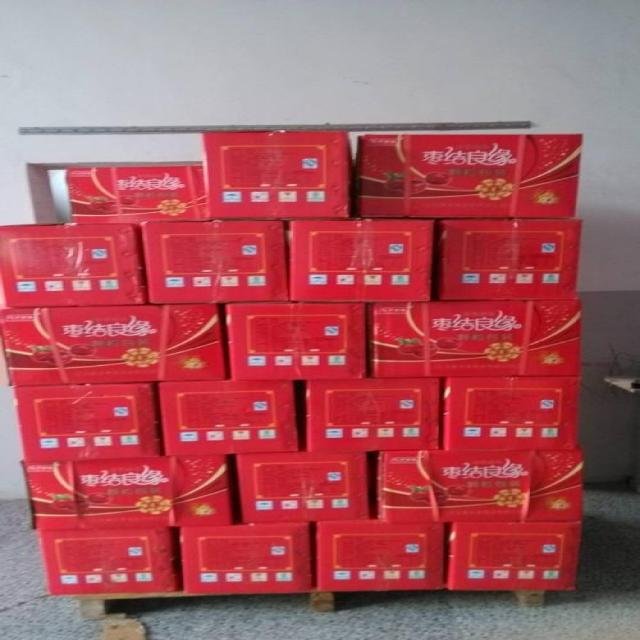box: (358, 132, 582, 218), (0, 304, 228, 385), (22, 453, 233, 530), (371, 302, 580, 377), (379, 452, 584, 522), (204, 130, 351, 221), (141, 220, 291, 303), (288, 218, 436, 302), (0, 224, 148, 308), (439, 218, 582, 302), (15, 384, 161, 462), (225, 302, 366, 380), (156, 381, 300, 455), (305, 377, 443, 452), (444, 377, 580, 451), (38, 526, 179, 597), (179, 522, 311, 595), (237, 452, 370, 523), (448, 521, 582, 591), (316, 520, 444, 592), (65, 165, 205, 225)
